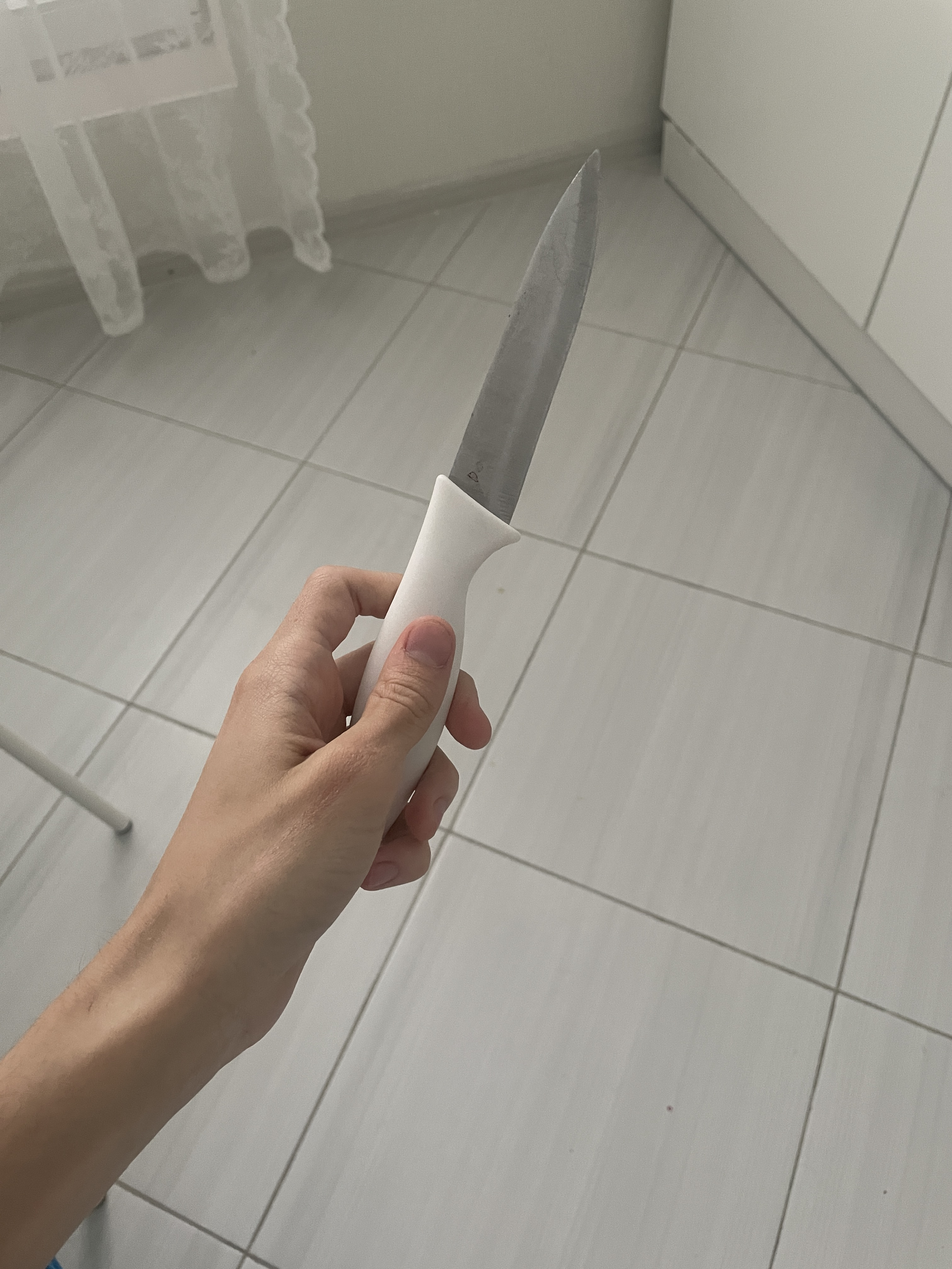knife: (352, 154, 599, 827)
